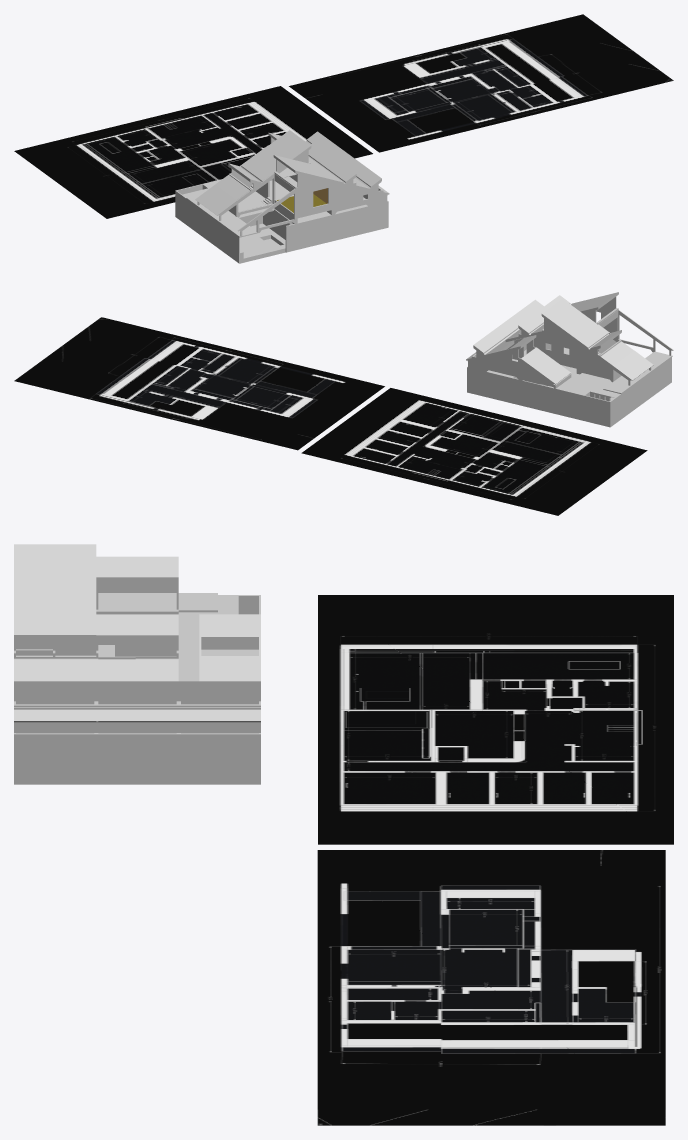
File: Modèle3D Complet TestTextu.fbx
3 views of the same model, one above another, from view 1: azimuth 30°, elevation 25°; view 2: azimuth 150°, elevation 25°; view 3: azimuth 270°, elevation 25° (orthographic). The views are drawn at different scales.
Visible parts, largest first — view 1: Model, S_jour1, Cour_int_rieur1, S_jour_1_1, Avant_Toit1, Salle_de_bain_1_1, Salle___manger1, Chambre_Valentine1, Toilette1, Douche_1_1, Chambre_SS_Valentine_2_1, Salon1 (+6 smaller); view 2: Model, S_jour_1_1, Salle___manger1, Avant_Toit1, Escalier1, Vestibule2_1, S_jour1, Cuisine1, Entr_e1, Toilette_1_1_1, Chambre_Rosie_Anne1, VestibuleAppart1 (+5 smaller); view 3: Model, S_jour1, VestibuleAppart1, Chambre_SS_Valentine1, Chambre_SS_Valentine_2_1, ChambreSSRose_Marie1, Chambre_Rosie_Anne1, Chambre_d_invit__1_1, Chambre_Valentine1, Vestibule2_1, S_jour_1_1, Douche1 (+4 smaller).
Part boxes in pixels (<box>): Model: <box>14,14,673,218</box>; S_jour1: <box>273,155,332,223</box>; Cour_int_rieur1: <box>218,209,295,263</box>; S_jour_1_1: <box>252,130,311,199</box>; Avant_Toit1: <box>186,185,258,237</box>; Salle_de_bain_1_1: <box>290,211,341,250</box>; Salle___manger1: <box>175,184,208,239</box>; Chambre_Valentine1: <box>349,201,388,236</box>; Toilette1: <box>334,166,369,209</box>; Douche_1_1: <box>240,157,273,206</box>; Chambre_SS_Valentine_2_1: <box>351,163,389,205</box>; Salon1: <box>207,211,272,247</box>; Model: <box>14,317,647,515</box>; S_jour_1_1: <box>541,298,597,373</box>; Salle___manger1: <box>583,380,641,427</box>; Avant_Toit1: <box>603,350,672,393</box>; Escalier1: <box>520,347,571,388</box>; Vestibule2_1: <box>485,335,536,381</box>; S_jour1: <box>574,292,618,353</box>; Cuisine1: <box>547,377,593,420</box>; Entr_e1: <box>511,376,548,411</box>; Toilette_1_1_1: <box>589,335,623,382</box>; Chambre_Rosie_Anne1: <box>467,366,504,400</box>; VestibuleAppart1: <box>505,310,543,357</box>; Model: <box>317,595,673,1125</box>; S_jour1: <box>14,544,96,614</box>; VestibuleAppart1: <box>96,614,178,681</box>; Chambre_SS_Valentine1: <box>96,681,178,733</box>; Chambre_SS_Valentine_2_1: <box>14,681,96,733</box>; ChambreSSRose_Marie1: <box>178,681,260,733</box>; Chambre_Rosie_Anne1: <box>178,733,260,784</box>; Chambre_d_invit__1_1: <box>96,733,178,784</box>; Chambre_Valentine1: <box>14,733,96,784</box>; Vestibule2_1: <box>199,614,260,681</box>; S_jour_1_1: <box>96,579,178,656</box>; Douche1: <box>14,614,96,655</box>.
Bounding box in the file's own units: 60.95 × 8.23 × 32.04.
